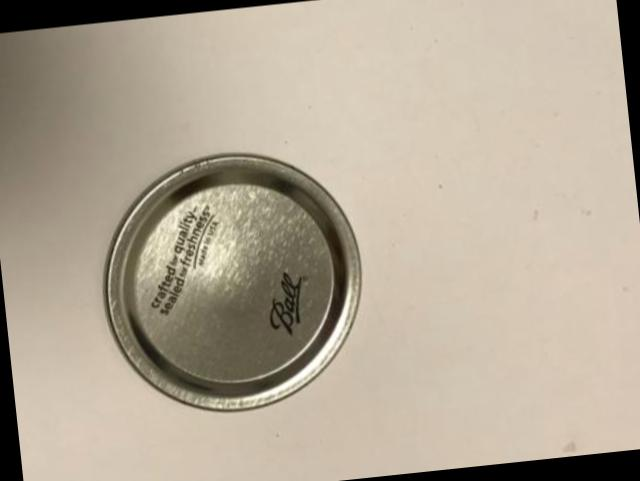metal: (108, 157, 363, 412)
